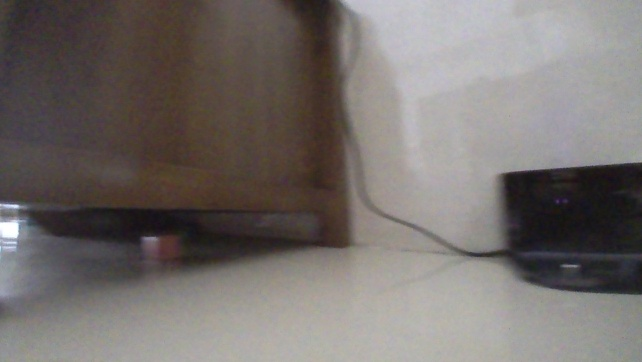charger: (501, 159, 641, 295)
wire: (328, 0, 510, 263)
